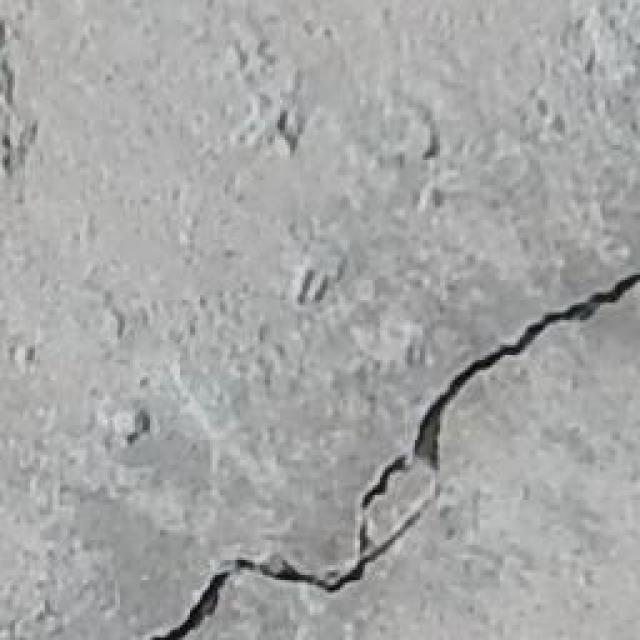concrete-crack: (149, 268, 640, 640)
